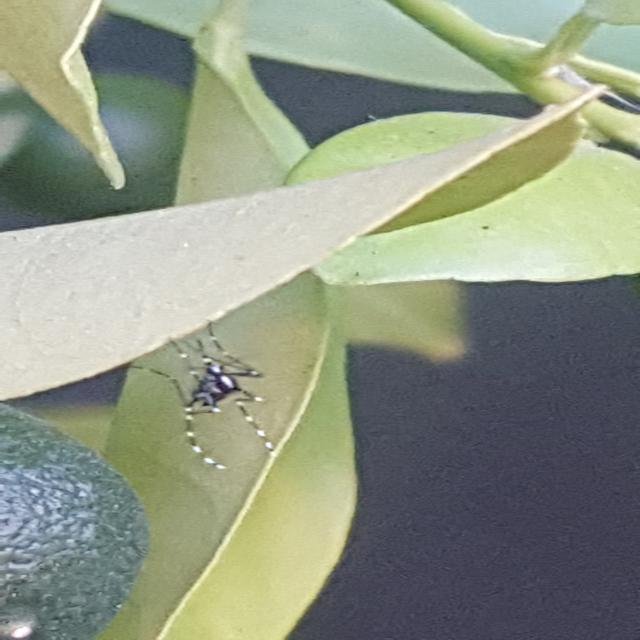albopictus: (78, 322, 298, 468)
